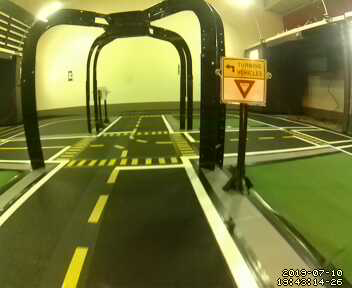Turn Yield: (220, 56, 268, 107)
